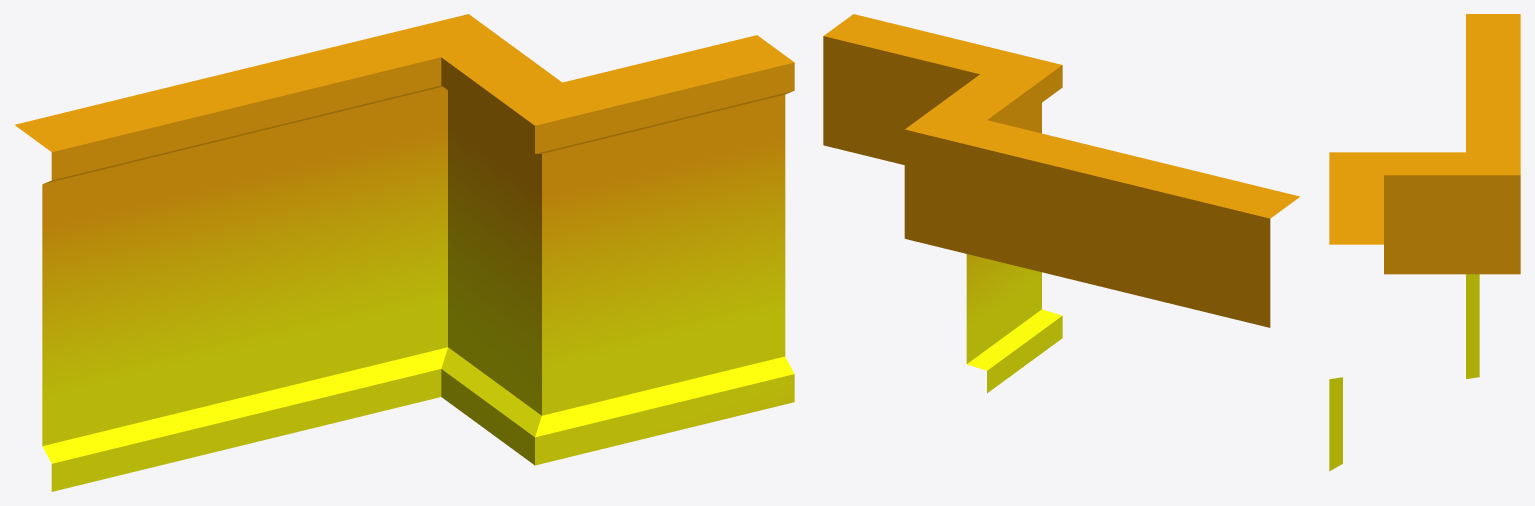
Rendered from cornice-metal-90angle-r.glb.
3 views of the same model, side by side, from view 1: azimuth 30°, elevation 25°; view 2: azimuth 150°, elevation 25°; view 3: azimuth 270°, elevation 25° (orthographic). The views are drawn at different scales.
Visible parts, largest first — view 1: Cornice_Metal_90Angle_R; view 2: Cornice_Metal_90Angle_R; view 3: Cornice_Metal_90Angle_R.
Boxes of the visible parts, bbox=[...] form: Cornice_Metal_90Angle_R: bbox=[15, 14, 794, 491]; Cornice_Metal_90Angle_R: bbox=[823, 14, 1299, 393]; Cornice_Metal_90Angle_R: bbox=[1329, 14, 1520, 471].
Bounding box in the file's own units: 2 × 1 × 0.7.
1 material, 1 textured.
